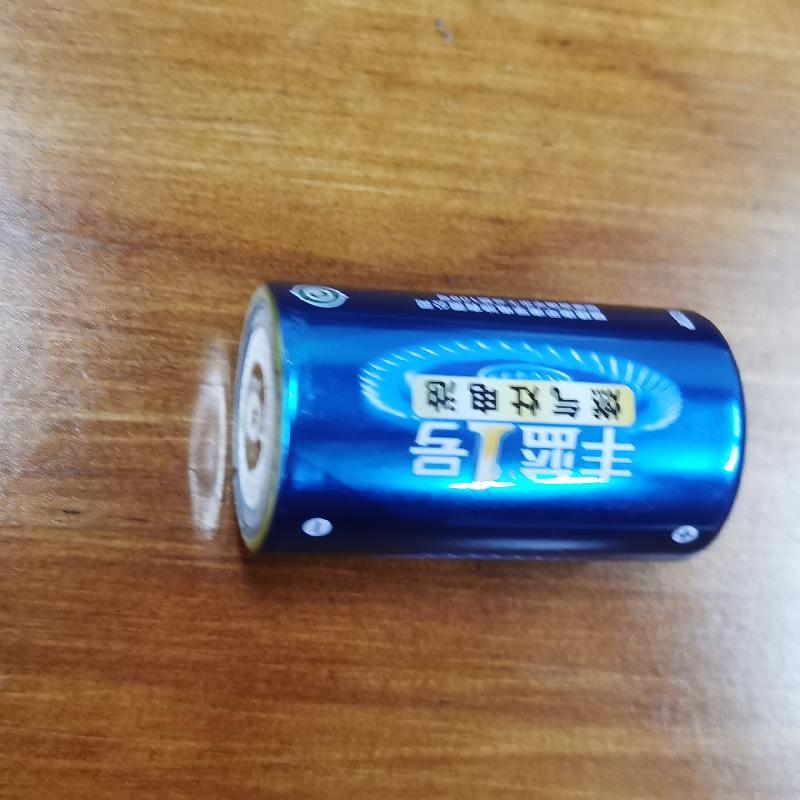battery: (225, 271, 756, 569)
